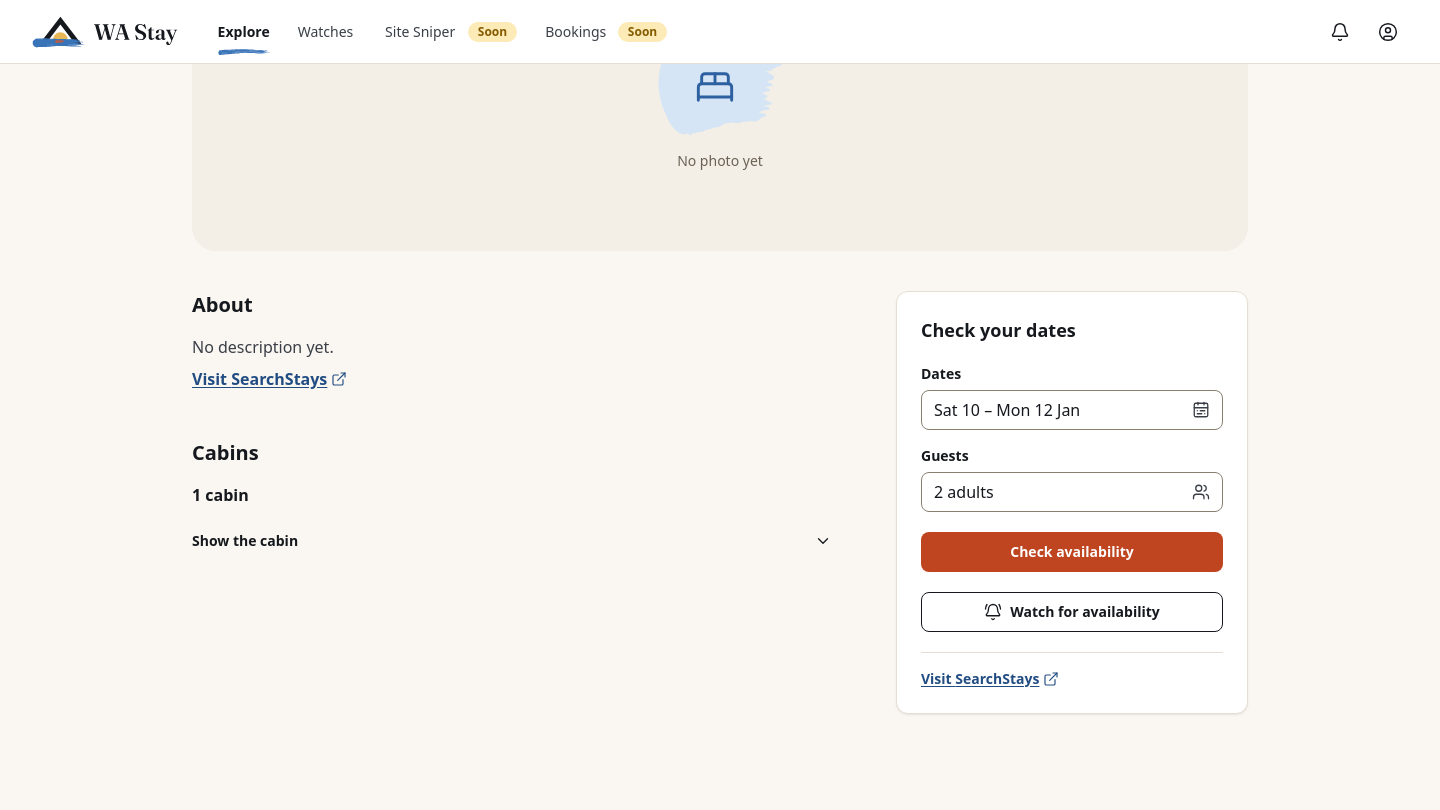
Test: Explore with a search-mode provider › opens a found place's page and hands it off to a new watch, whose location step finds only places seen
(page scrolled)
Click the link "Watch for availability". click: (1072, 612)
box: [921, 592, 1223, 632]
(page scrolled)
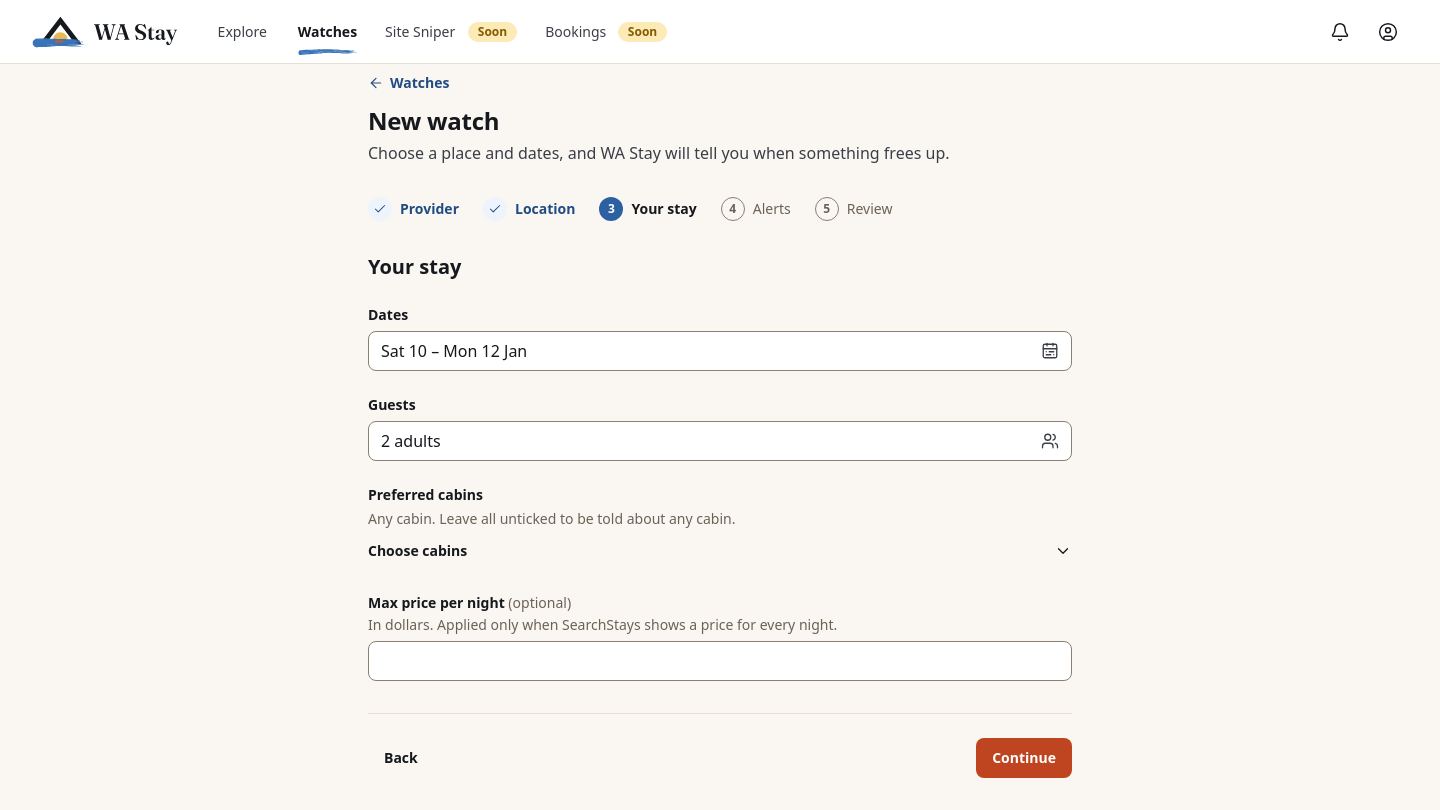
Check: the heading named "Step 3 of 5: Your stay" is shown, box [367, 252, 476, 280]
Click the button named "Location, done". click: (529, 209)
box: [483, 197, 576, 221]
(page scrolled)
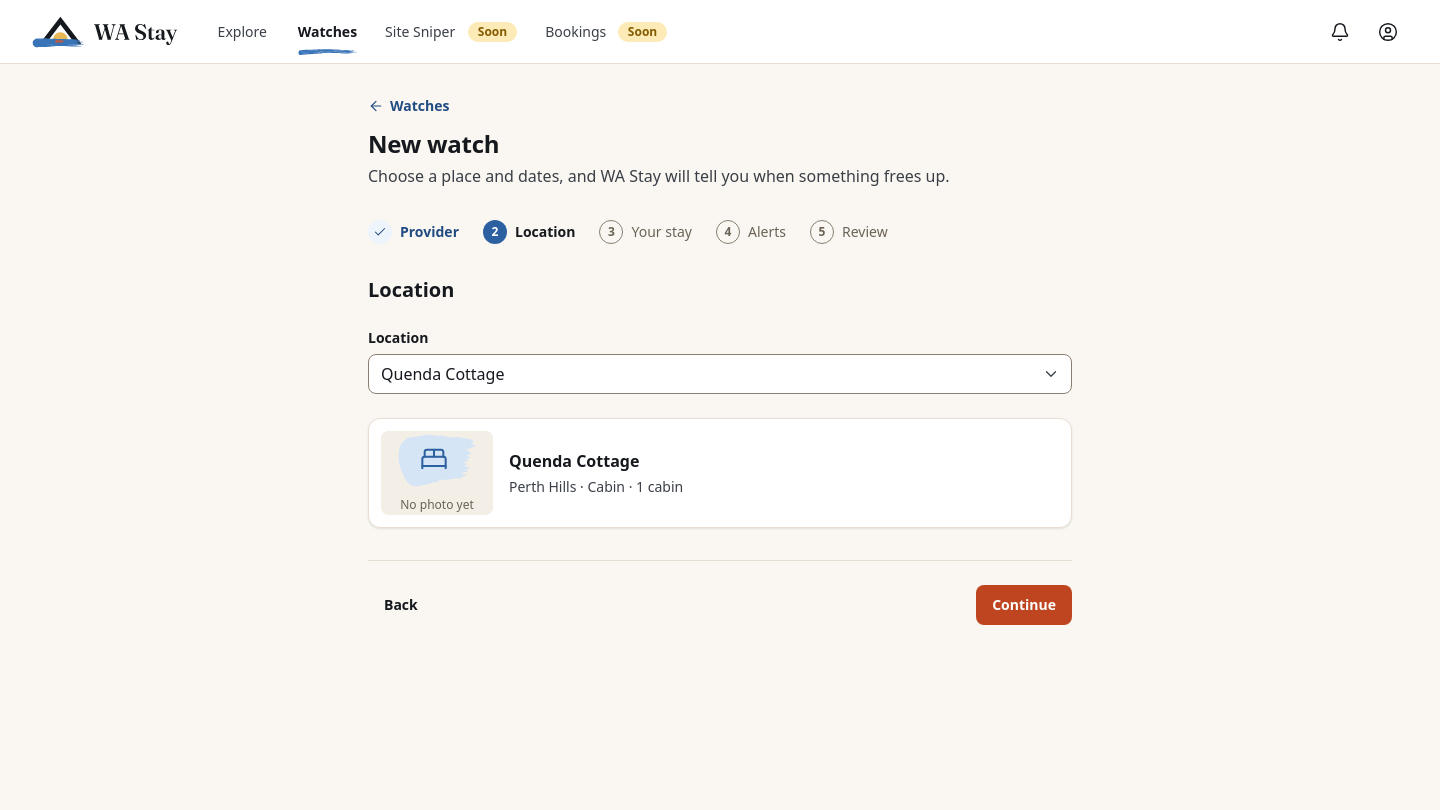
Check: the dropdown labelled "Location" holds "Quenda Cottage"
// SearchStays cannot be searched by name: a name it has not shown on the map finds nothing
Replace the text in the dropdown labelled "Location" with "Loft". click: (720, 374)
box: [368, 354, 1072, 394]
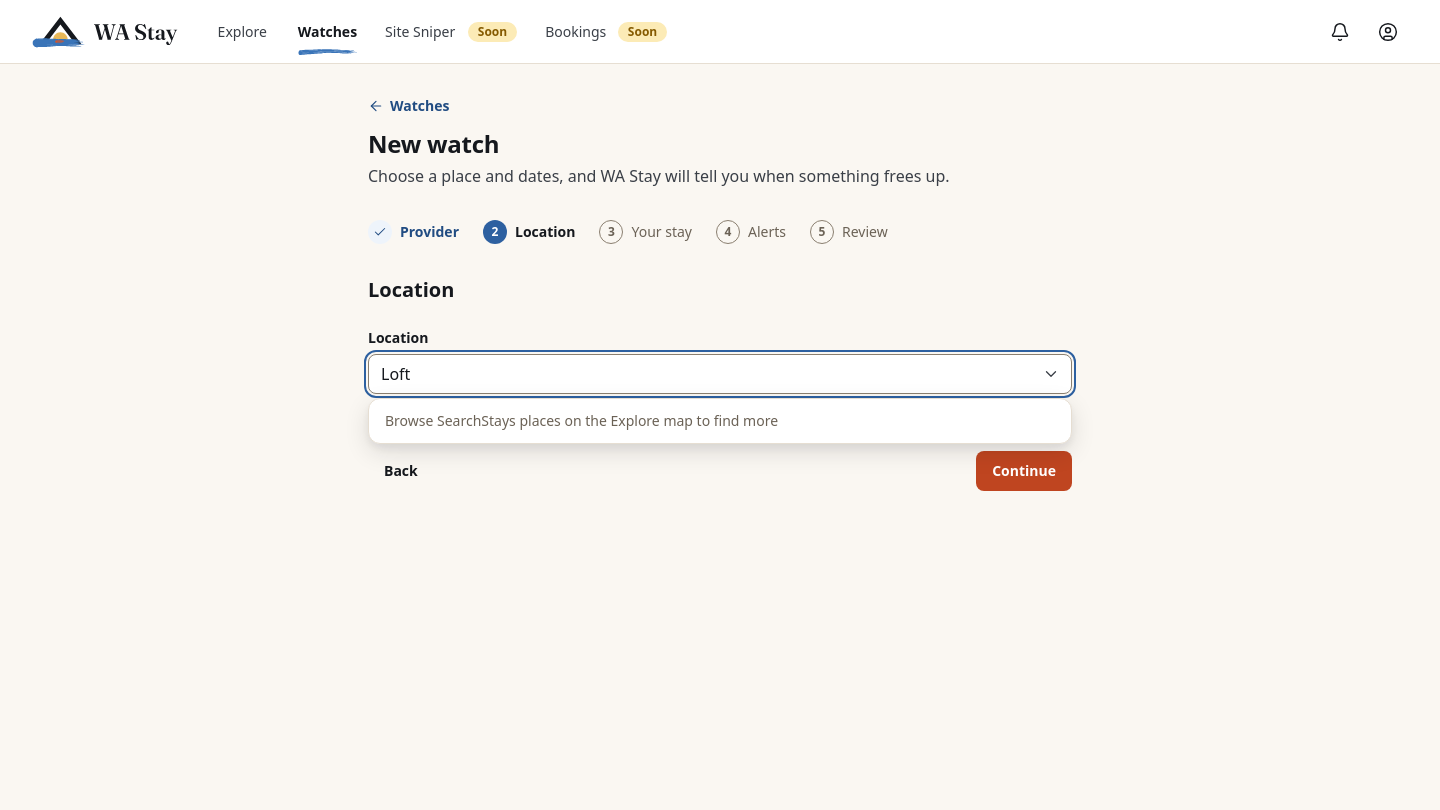
Check: the option "Browse SearchStays places on the Explore map to find more" is shown, box [385, 411, 778, 430]
